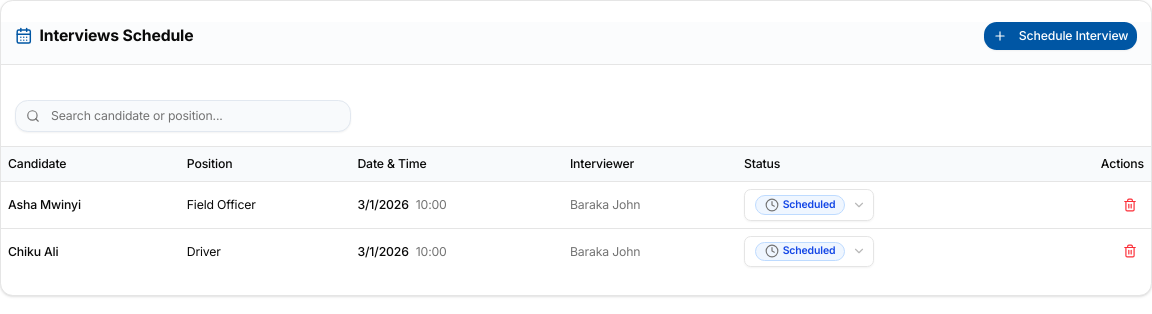
Test: HRInterviewsSubtab › filters by candidate name or position
This screenshot has width=1152, height=314.
Type "driver" into the field with placeholder "Search candidate or position...".
click(183, 116); type("driver")  # box top-left (15, 100), bottom-right (351, 132)
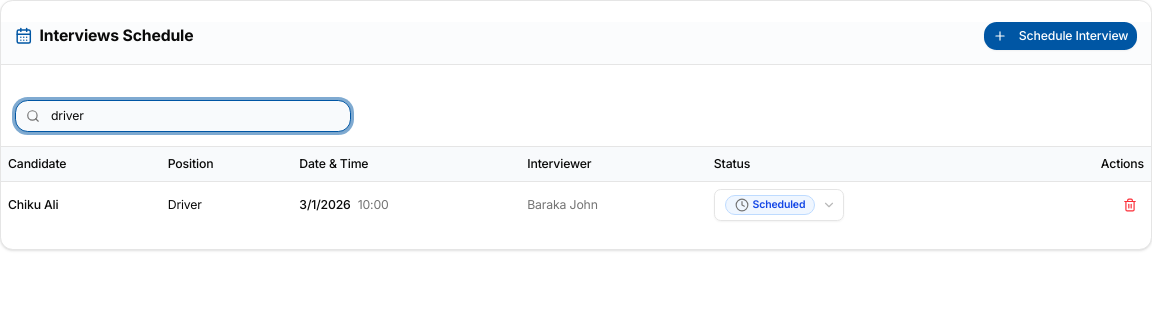
Expected: the text "Chiku Ali" is shown, top-left (1, 182), bottom-right (161, 228)
Now the text "Asha Mwinyi" is gone
